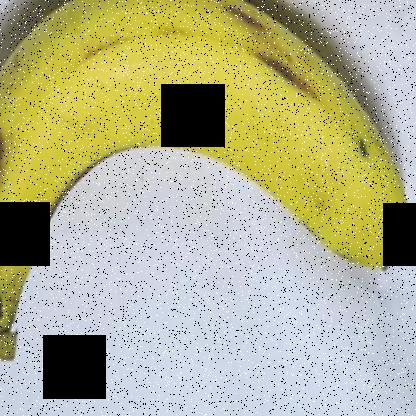freshripe: (1, 1, 415, 377)
